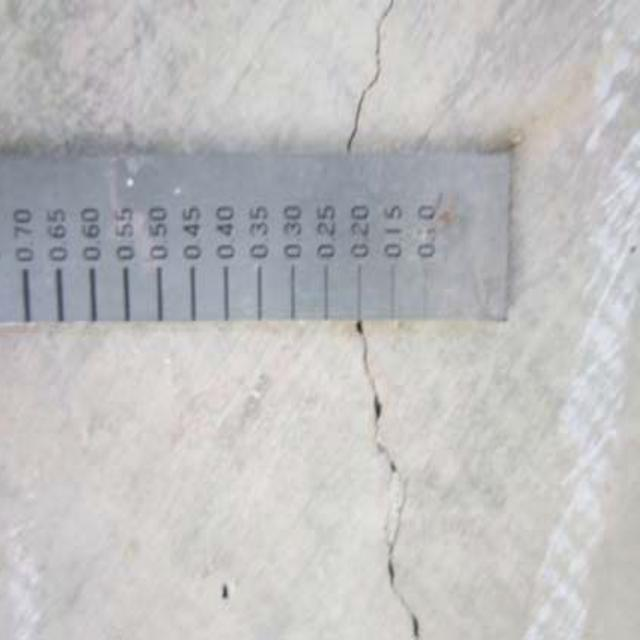crack: (337, 327, 453, 640), (336, 7, 400, 163)
